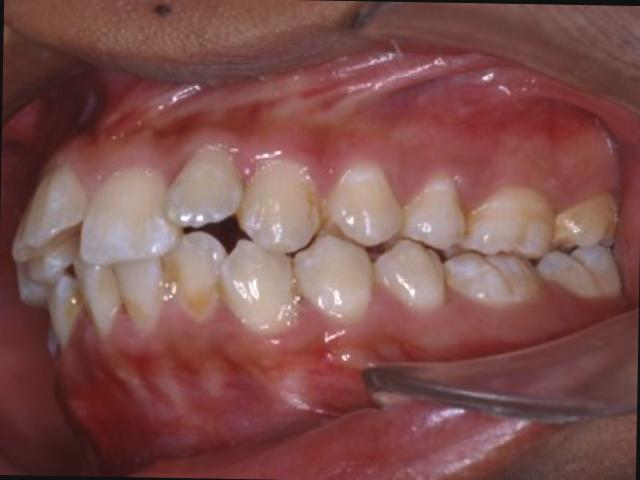canine class II 1/4: (214, 142, 378, 350)
molar class I: (445, 166, 559, 324)
